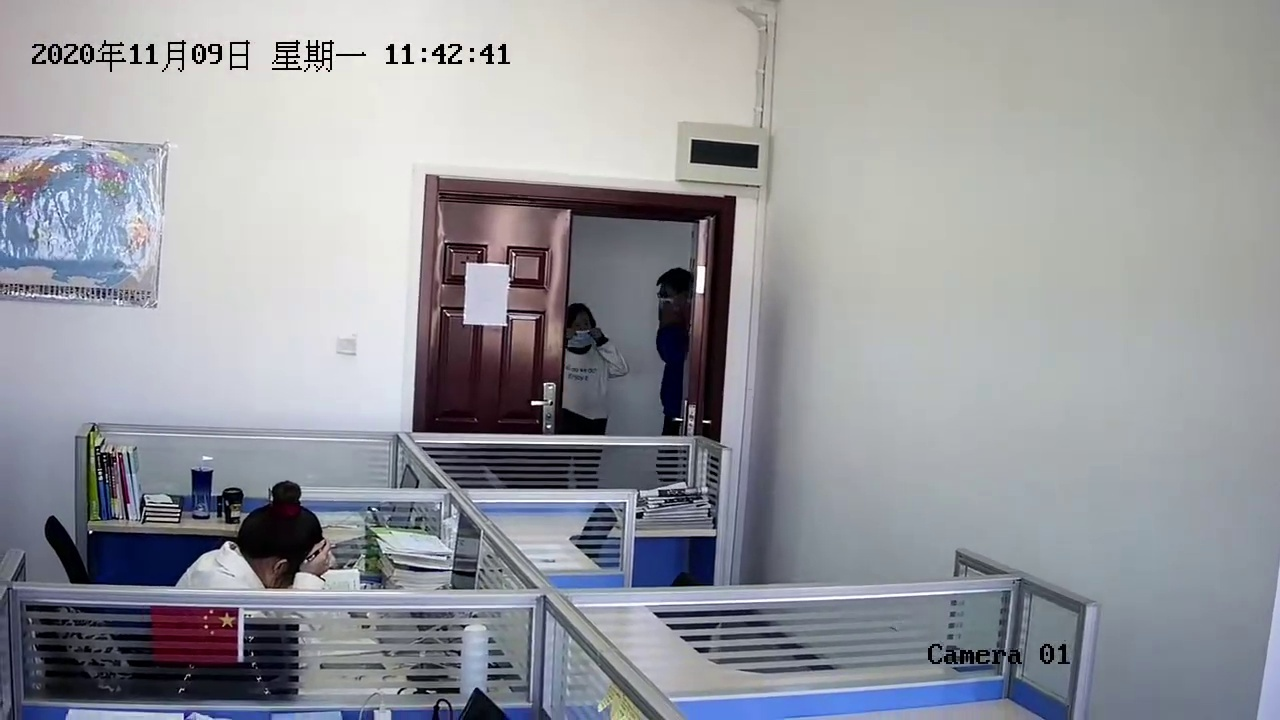mask: (650, 267, 693, 331), (562, 302, 601, 355)
